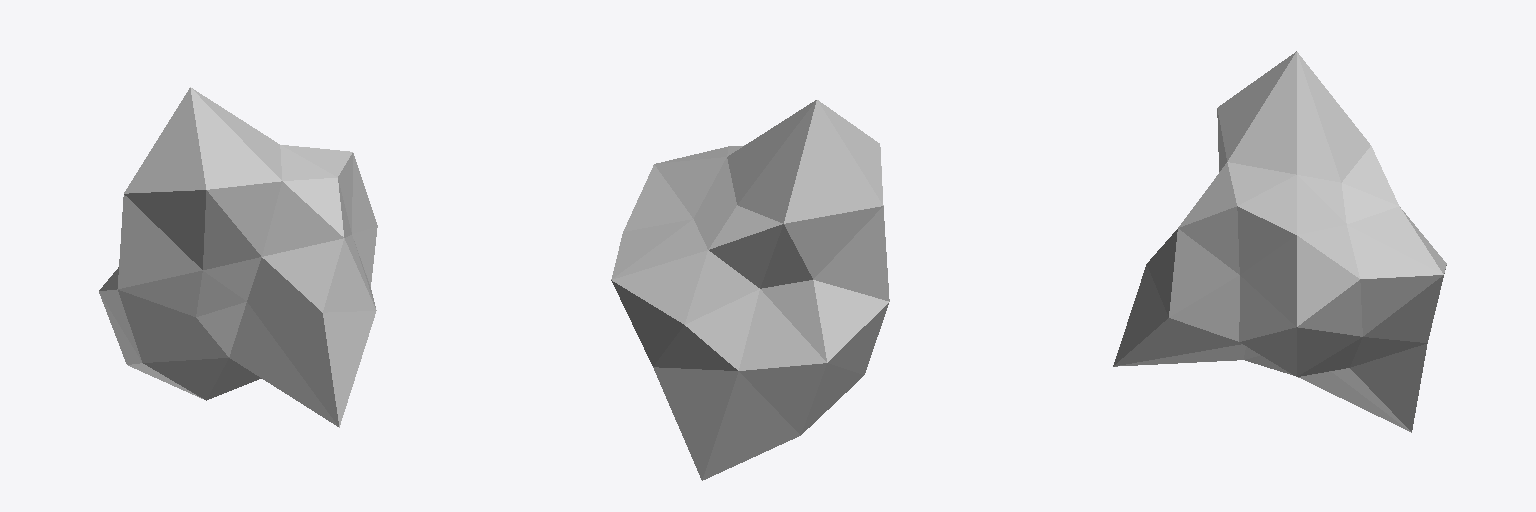
The model's file is nuage1.obj.
The picture shows the model from 3 angles: view 1: azimuth 30°, elevation 25°; view 2: azimuth 150°, elevation 25°; view 3: azimuth 270°, elevation 25°; orthographic projection.
Parts seen in each view (by area): view 1: Icosphere.006; view 2: Icosphere.006; view 3: Icosphere.006.
Boxes of the visible parts, box(x1,y1,x2,y2) form: Icosphere.006: box(99, 87, 377, 427); Icosphere.006: box(611, 100, 889, 480); Icosphere.006: box(1113, 51, 1446, 432).
Size of the model in its own units: 8.71 by 11.31 by 9.68.